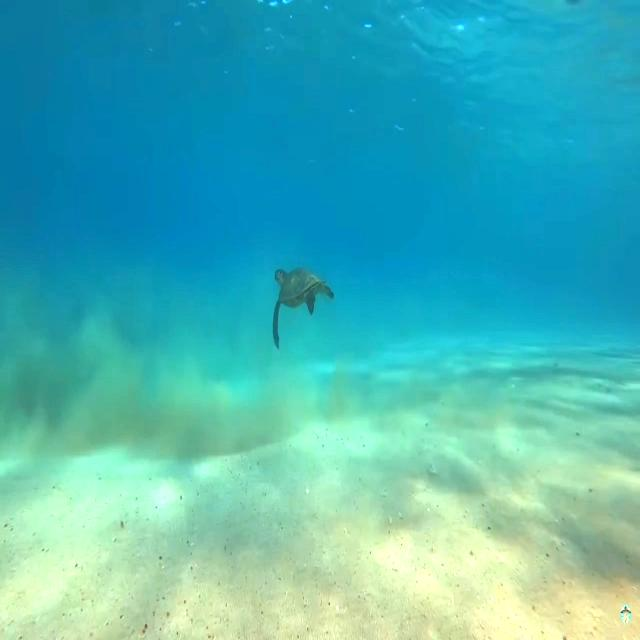Sea turtle: (270, 262, 336, 348)
